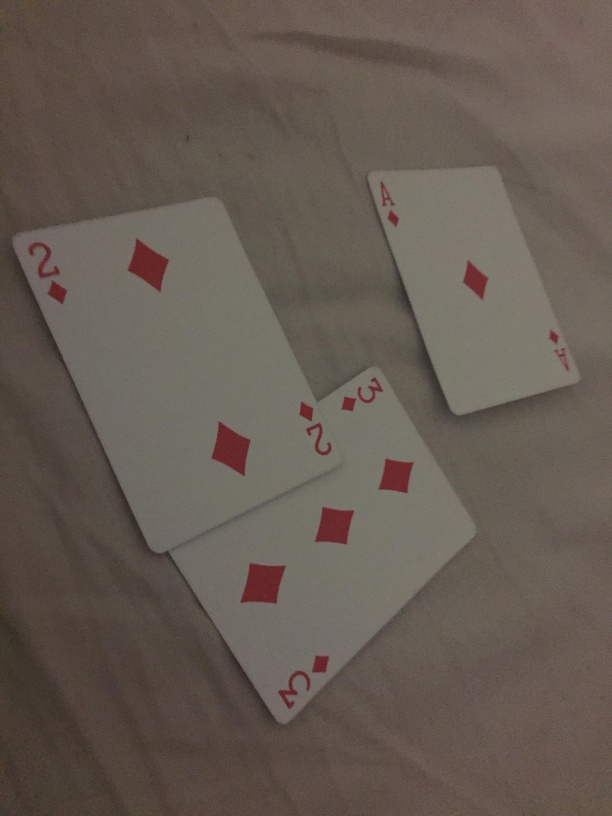2: (11, 196, 341, 554)
3: (149, 362, 478, 728)
ace: (364, 163, 582, 417)
